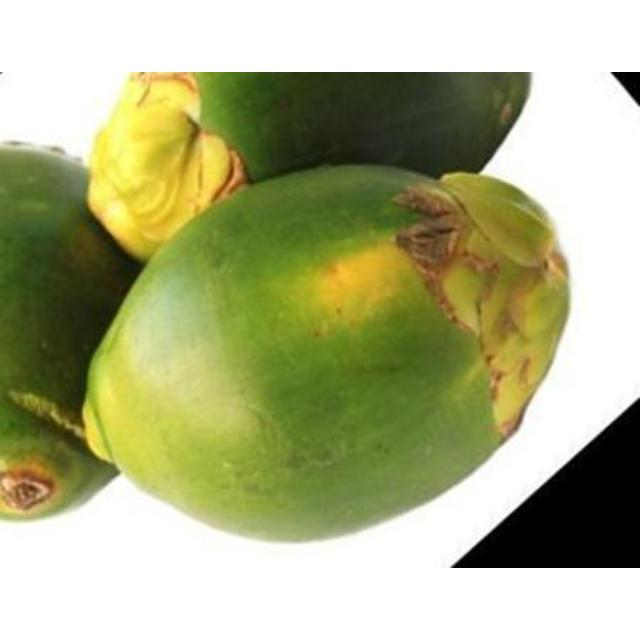good: (80, 164, 569, 544)
